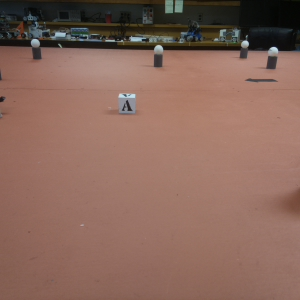blockA: (114, 92, 139, 115)
obstacle: (149, 45, 166, 67), (265, 46, 281, 68), (29, 40, 42, 58), (239, 41, 250, 60)
start: (240, 74, 279, 84)
